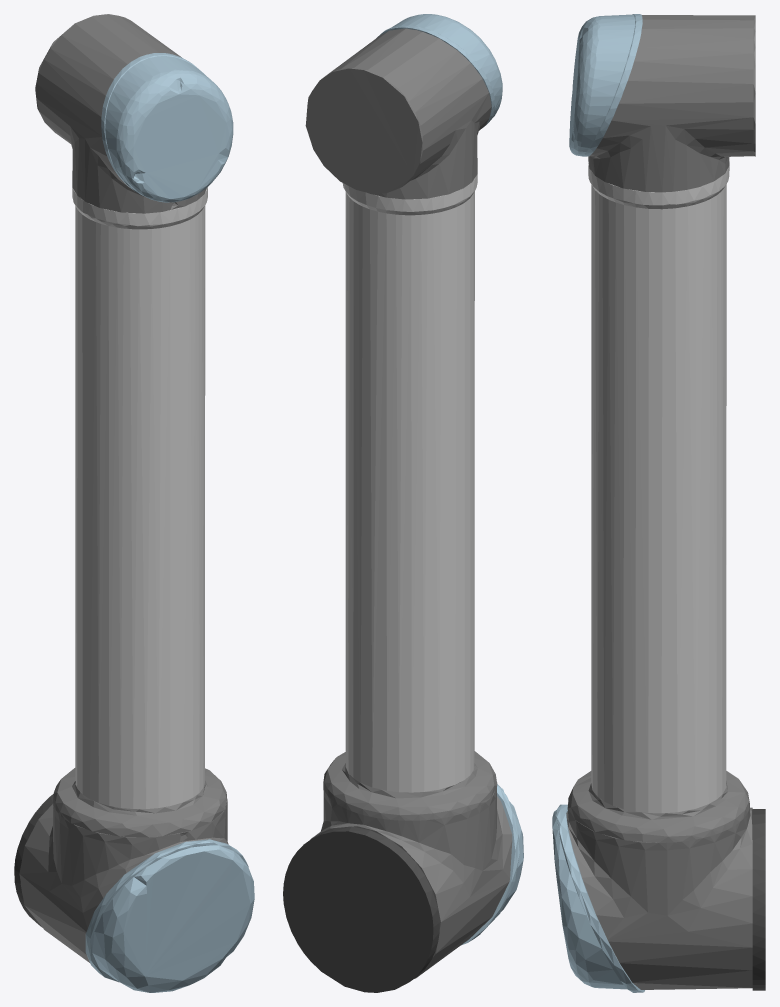
Rendered from forearm.dae.
3 renders of one model, left to right at view 1: azimuth 30°, elevation 25°; view 2: azimuth 150°, elevation 25°; view 3: azimuth 270°, elevation 25°, orthographic. The views are drawn at different scales.
Visible parts, largest first — view 1: node-shape3-name, node-shape0-name, node-shape1-name, node-shape1-name.001, node-shape4-name; view 2: node-shape3-name, node-shape0-name, node-shape4-name, node-shape1-name.001, node-shape1-name; view 3: node-shape3-name, node-shape0-name, node-shape1-name.001, node-shape1-name, node-shape4-name.
Part boxes in pixels (left/top/right/bottom): node-shape3-name: left=72, top=187, right=207, bottom=808; node-shape0-name: left=19, top=14, right=228, bottom=962; node-shape1-name: left=85, top=839, right=254, bottom=992; node-shape1-name.001: left=101, top=53, right=233, bottom=202; node-shape4-name: left=14, top=794, right=53, bottom=926; node-shape3-name: left=342, top=174, right=477, bottom=792; node-shape0-name: left=305, top=28, right=512, bottom=978; node-shape4-name: left=283, top=826, right=439, bottom=992; node-shape1-name.001: left=377, top=14, right=502, bottom=126; node-shape1-name: left=461, top=784, right=523, bottom=945; node-shape3-name: left=588, top=161, right=729, bottom=813; node-shape0-name: left=566, top=15, right=755, bottom=989; node-shape1-name.001: left=569, top=14, right=642, bottom=156; node-shape1-name: left=552, top=804, right=644, bottom=992; node-shape4-name: left=752, top=809, right=765, bottom=990.
Size of the model in its own units: 0.1202 by 0.1361 by 0.6775.
